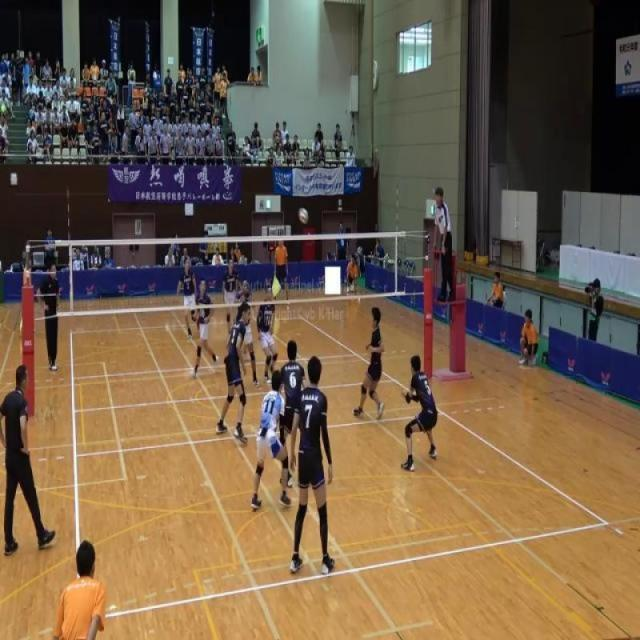volleyball: (298, 207, 310, 226)
